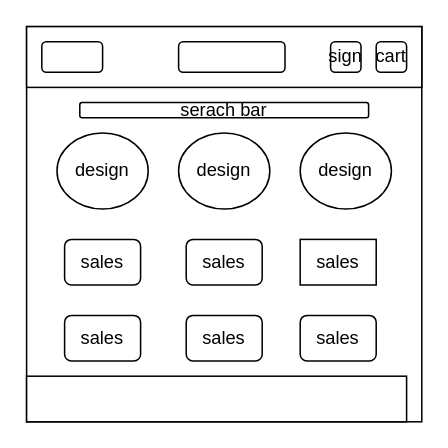
Some shapes in this 448 by 448 pixel diagram are drawn without their labels. Each missing label, with the box of its shape:
Footer: (25, 375, 407, 422)
menu: (40, 40, 103, 72)
title: (177, 40, 285, 72)
